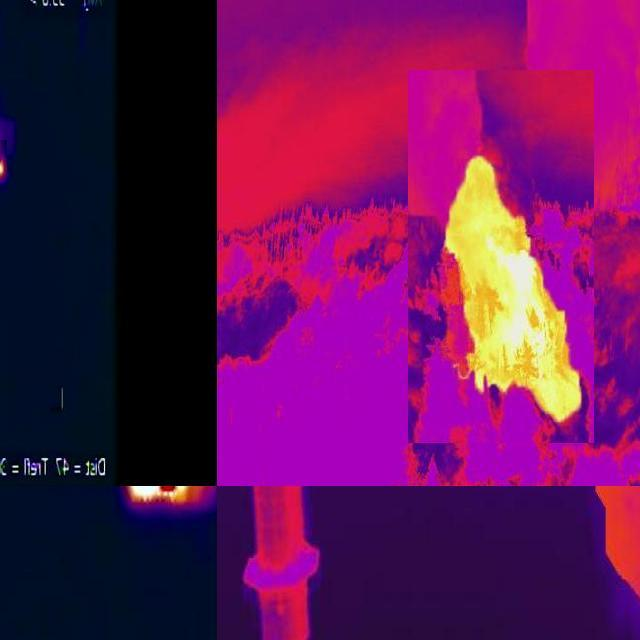fire: (443, 158, 584, 424), (128, 486, 214, 513), (1, 141, 8, 188)
